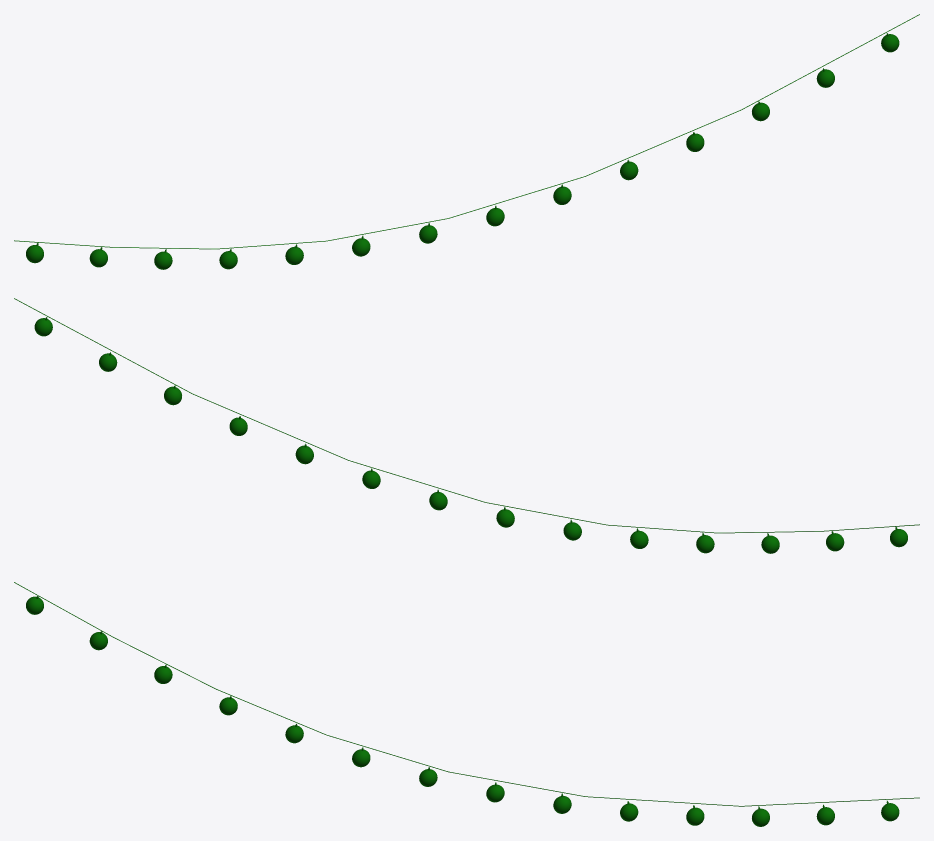
The model's file is Garland.fbx.
3 views of the same model, one above another, from view 1: azimuth 30°, elevation 25°; view 2: azimuth 150°, elevation 25°; view 3: azimuth 330°, elevation 25° (orthographic).
Parts seen in each view (by area): view 1: garland; view 2: garland; view 3: garland.
Part boxes in pixels (left/top/right/bottom): garland: left=14, top=14, right=919, bottom=269; garland: left=14, top=298, right=919, bottom=553; garland: left=14, top=582, right=919, bottom=826.
Bounding box in the file's own units: 1143 × 131 × 20.
